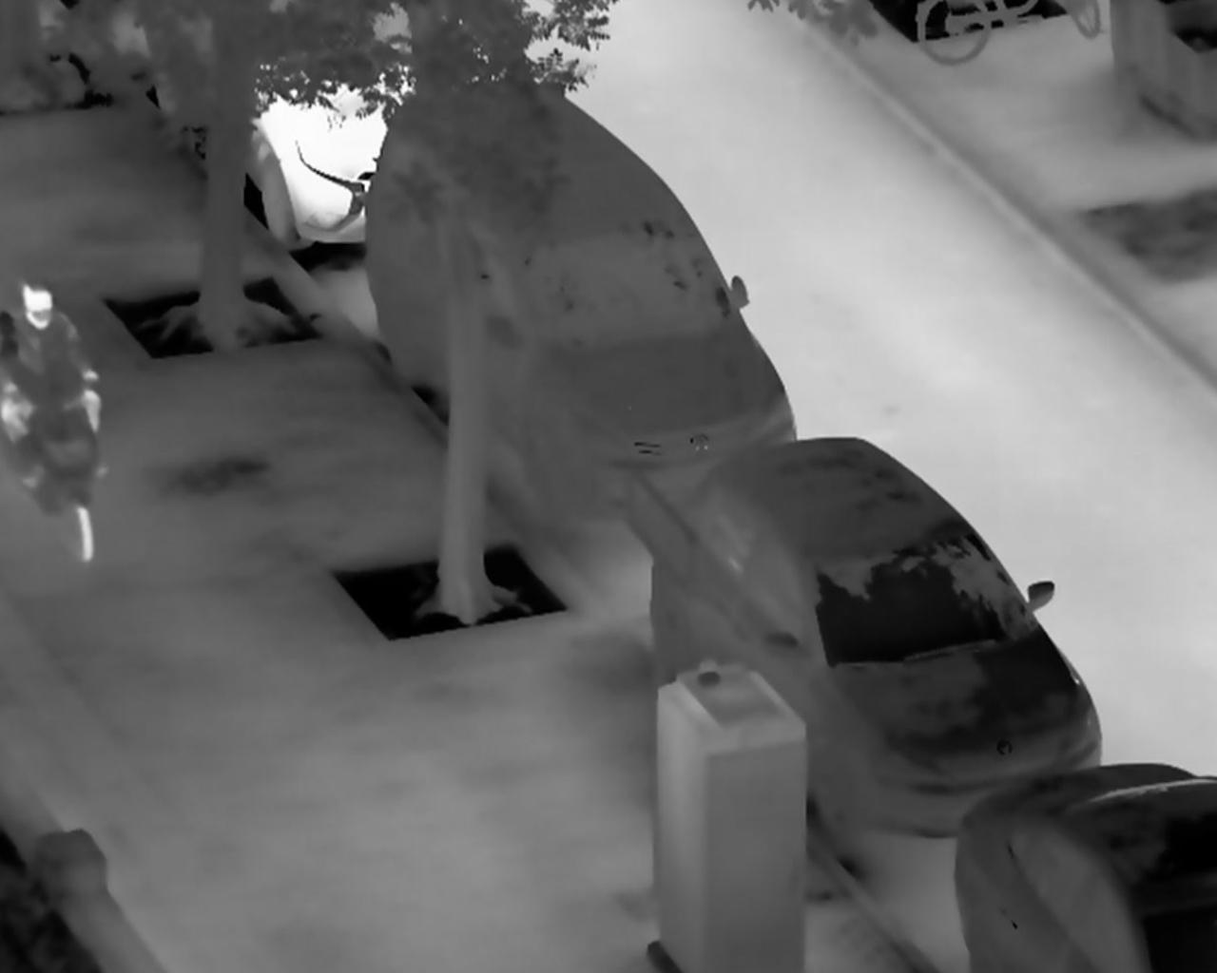person: (2, 277, 108, 520)
